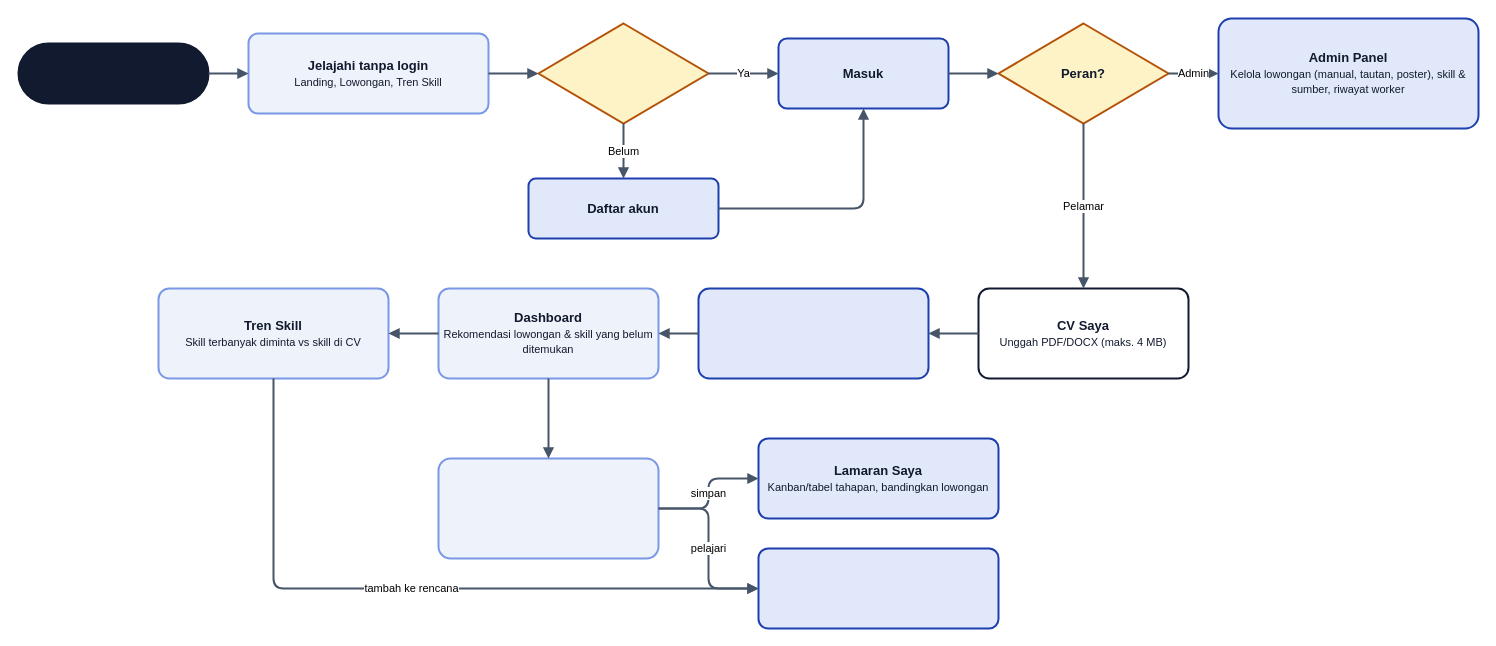
The diagram is 1496 pixels wide and 646 high, and some of its shapes have lost their labels. Each missing label, with the centre of its shape:
Detail lowongan Skor, status per persyaratan, bukti CV, asisten AI: the point at 548,508
Membuka SkillBridge: the point at 113,73
Punya akun?: the point at 623,73
Rencana Belajar Prioritas, catatan, progres: the point at 878,588
Tinjau & koreksi Skill, pengalaman, IPK, target karier: the point at 813,333
